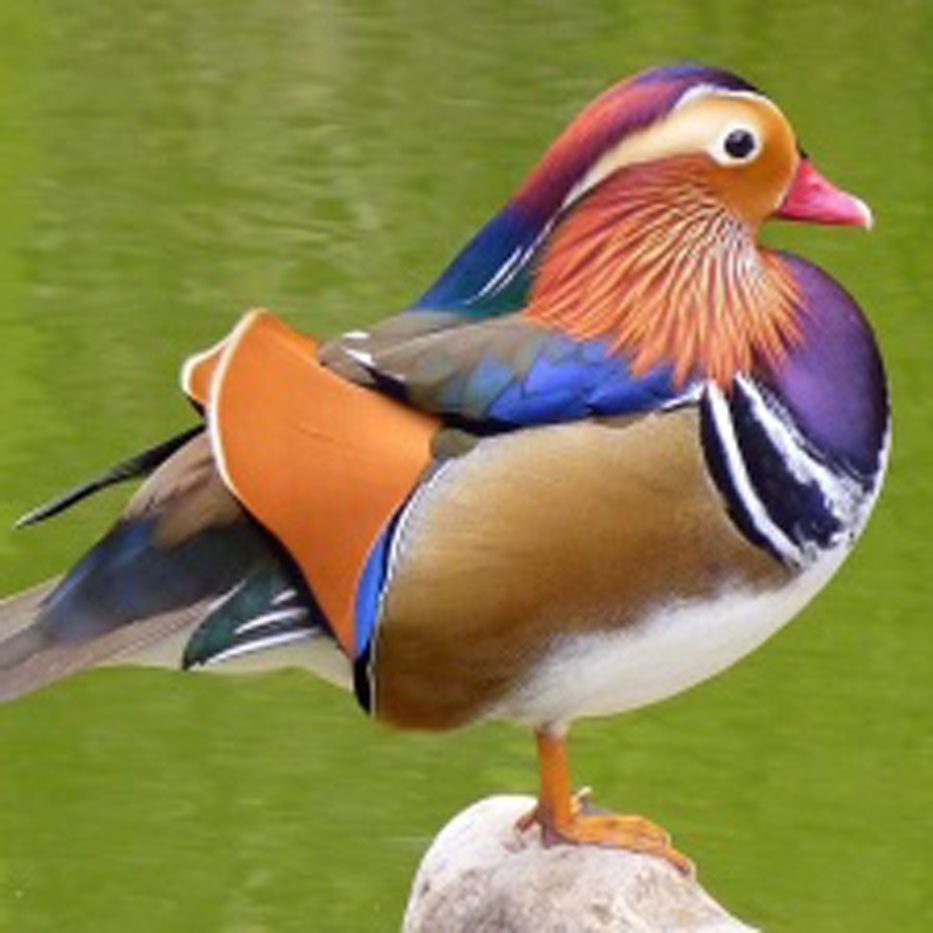Mencari Makan di Lumpur: (780, 142, 891, 252)
